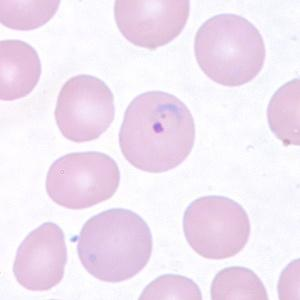Infected: (119, 91, 197, 172)
Uninfected: (77, 207, 151, 282), (195, 14, 266, 88), (183, 196, 252, 259), (54, 75, 116, 145), (46, 152, 119, 209), (13, 220, 69, 291), (114, 0, 189, 50), (0, 40, 43, 101)
